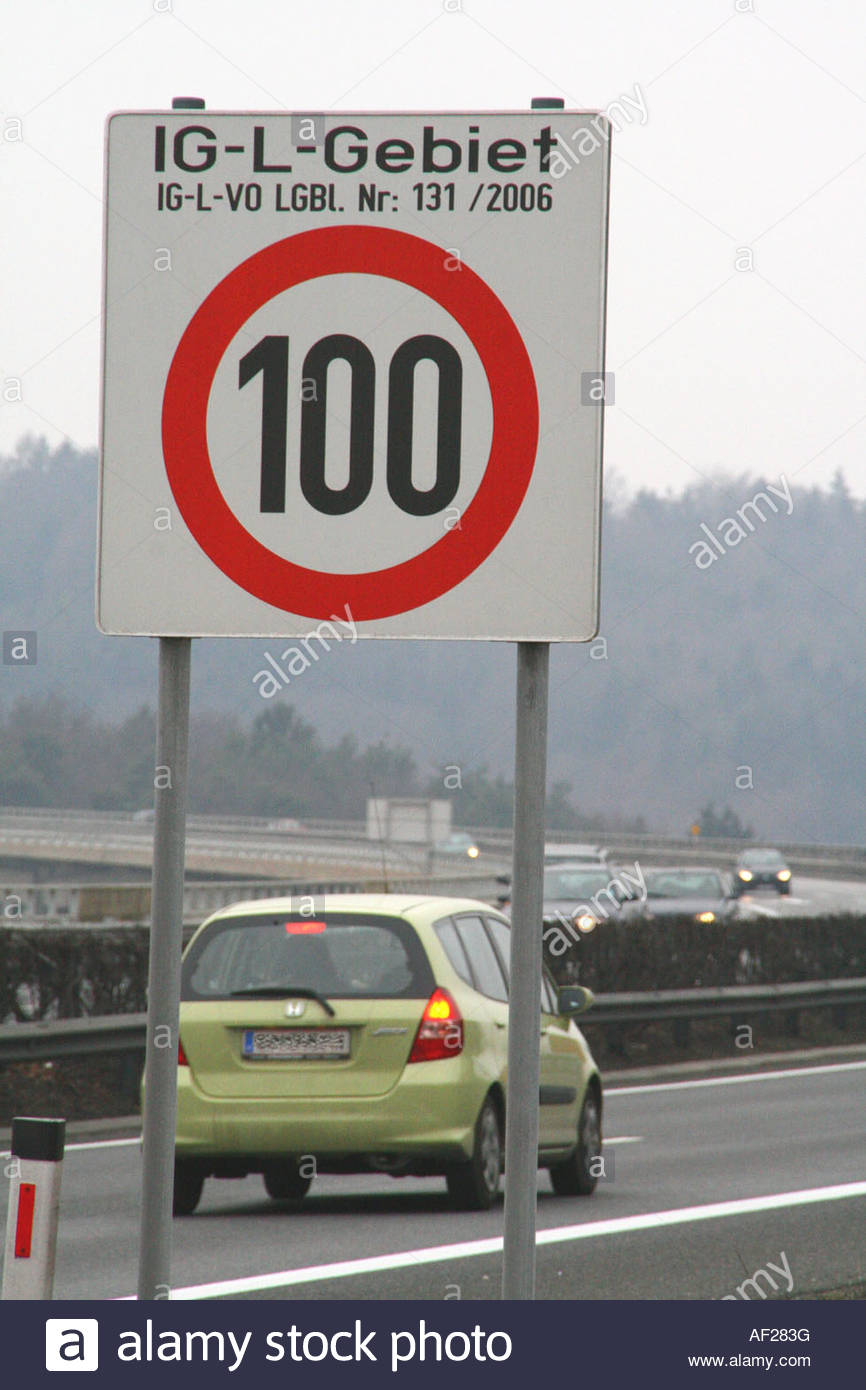Speed_limit_100km: (156, 222, 539, 631)
car: (141, 889, 611, 1214)
